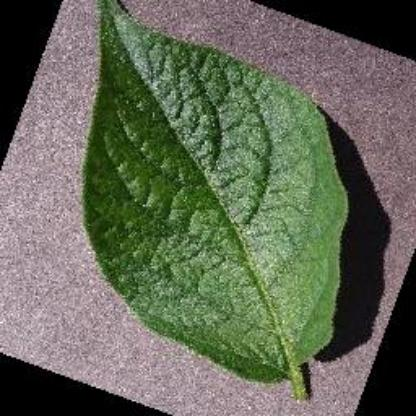Healthy-plant: (78, 0, 366, 402)
